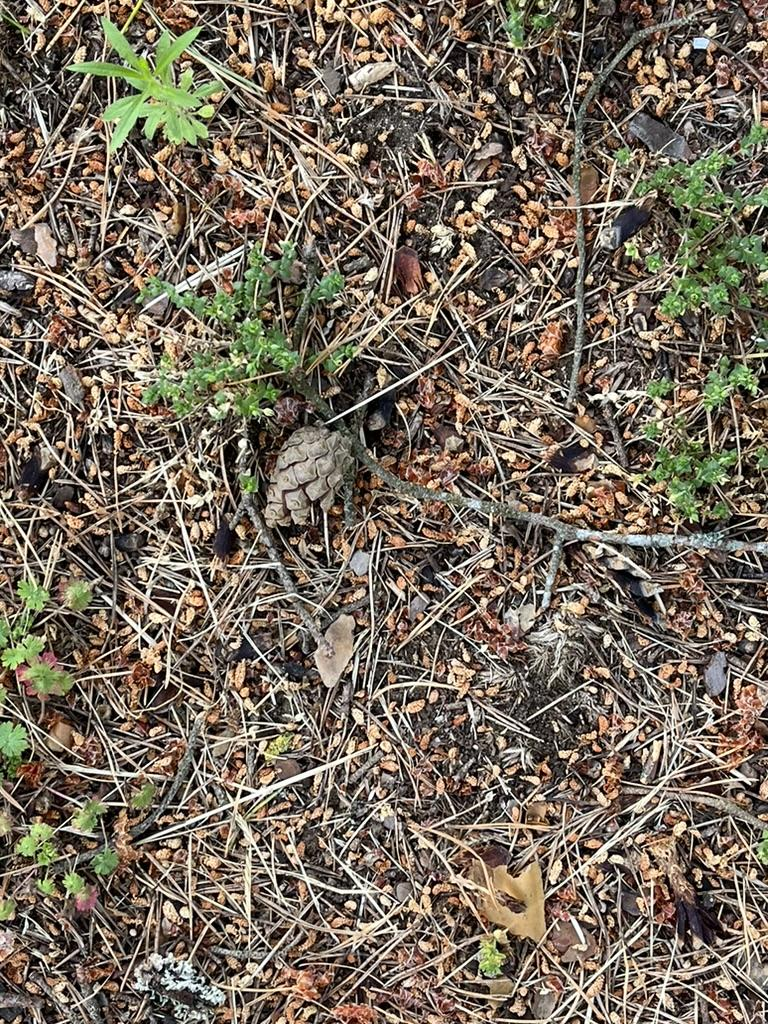pine: (256, 410, 368, 543)
